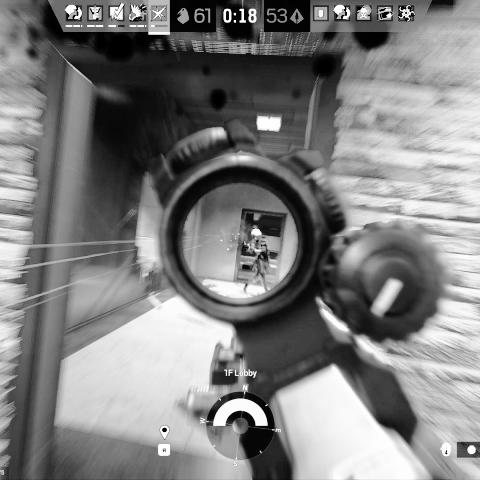Character: (244, 227, 272, 294)
Head: (251, 228, 262, 241)
